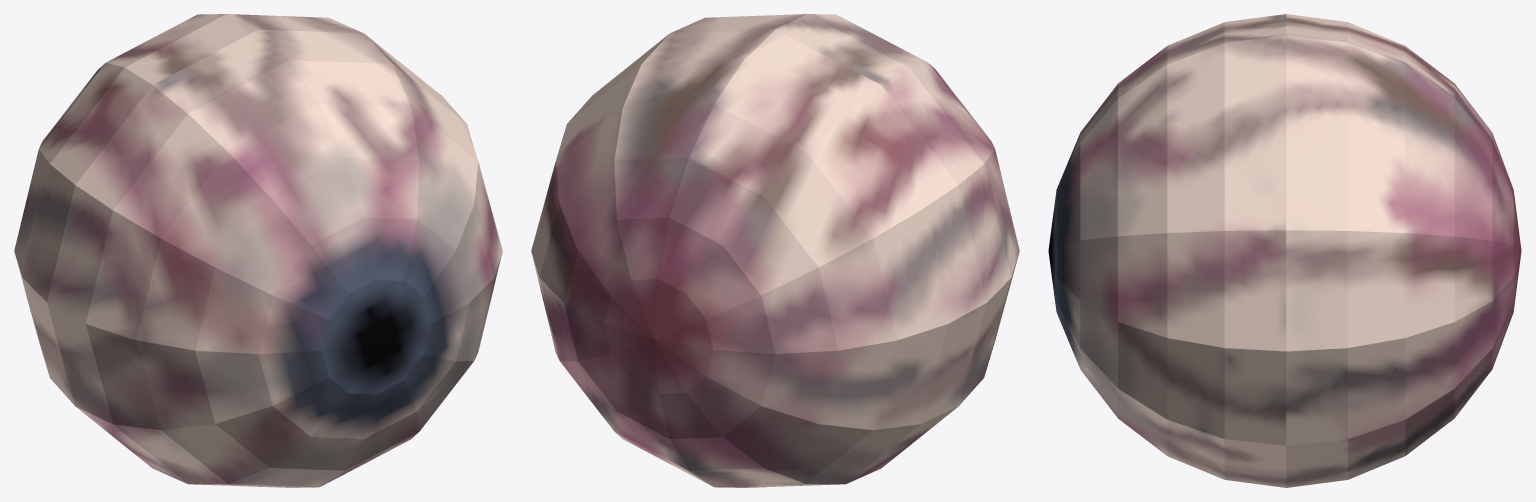
Rendered from eyeball.glb.
The picture shows the model from 3 angles, left to right: view 1: azimuth 30°, elevation 25°; view 2: azimuth 150°, elevation 25°; view 3: azimuth 270°, elevation 25°; orthographic projection. The views are drawn at different scales.
Visible parts, largest first — view 1: nolids; view 2: nolids; view 3: nolids.
Part boxes in pixels (<box>): nolids: <box>14,14,502,487</box>; nolids: <box>531,14,1019,487</box>; nolids: <box>1048,14,1521,487</box>.
Size of the model in its own units: 2 by 2 by 1.99.
Materials: 1 (1 with a texture image).
